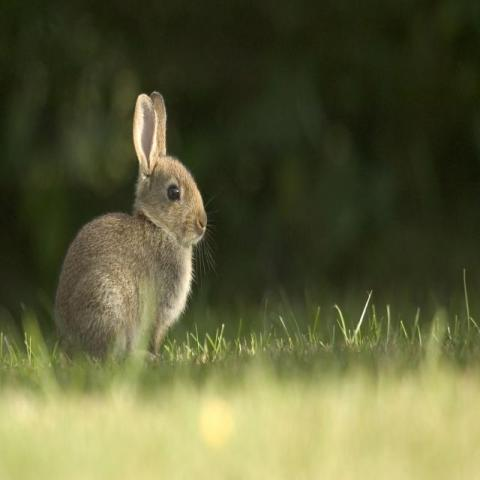small_animal: (51, 89, 214, 367)
